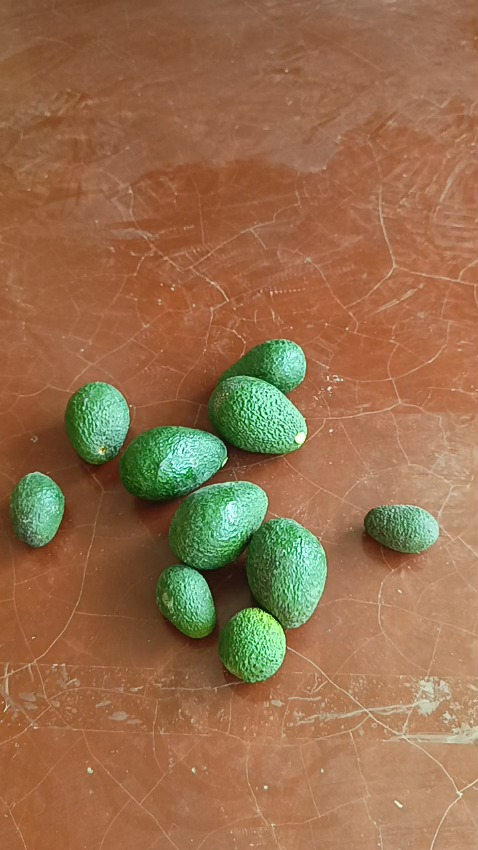Primera: (245, 517, 326, 627), (168, 481, 266, 569), (118, 425, 227, 499), (207, 374, 307, 454)
Segunda: (64, 381, 131, 462), (219, 341, 305, 395)
Tercera: (217, 605, 286, 680), (153, 561, 216, 637), (8, 471, 66, 548), (362, 503, 440, 553)
